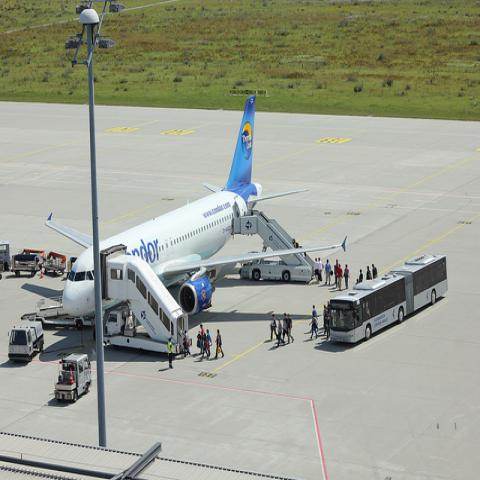bus: (322, 252, 446, 346)
truck: (54, 352, 92, 403), (8, 320, 44, 362)
